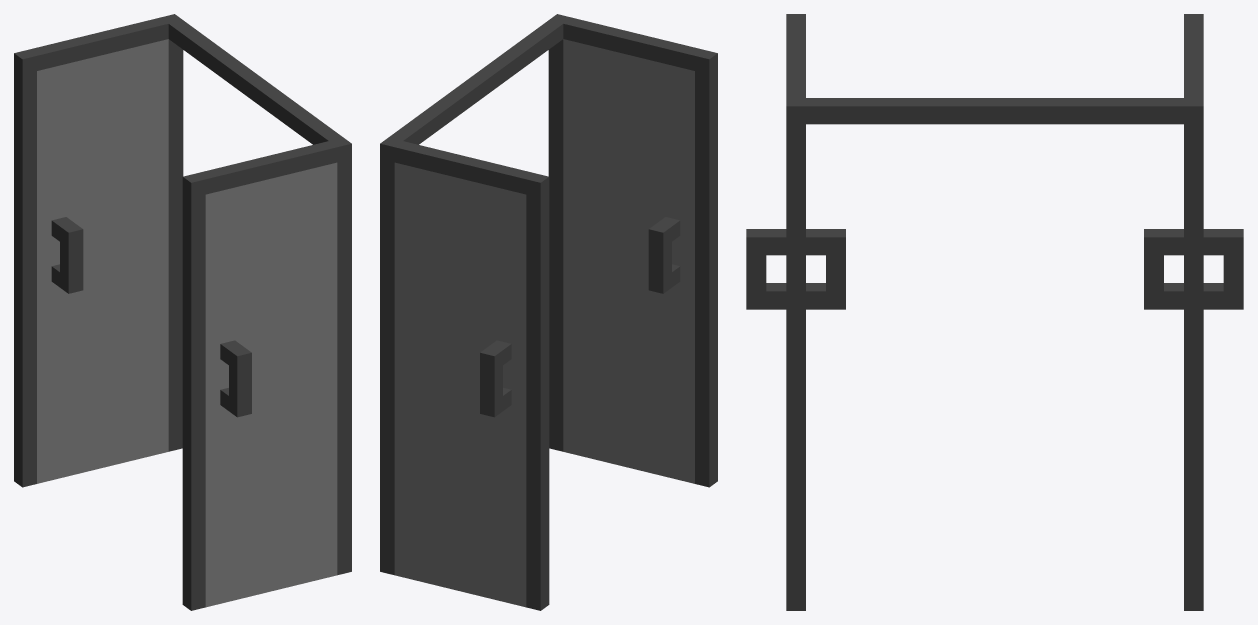
The model's file is Door_for_wall_open_Ver2.1.obj.
The picture shows the model from 3 angles, left to right: view 1: azimuth 30°, elevation 25°; view 2: azimuth 150°, elevation 25°; view 3: azimuth 270°, elevation 25°; orthographic projection. The views are drawn at different scales.
Bounding box in the file's own units: 1.1 × 2.8 × 2.5.
1 material, 1 textured.
